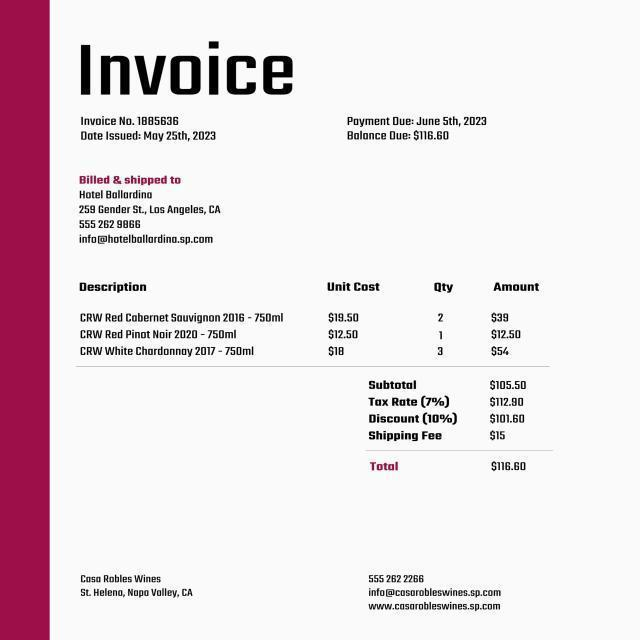ROI: (62, 267, 582, 359), (361, 367, 567, 485), (66, 159, 247, 248), (61, 37, 310, 100), (341, 564, 508, 627), (341, 102, 505, 163), (74, 554, 215, 616), (69, 109, 234, 149)
